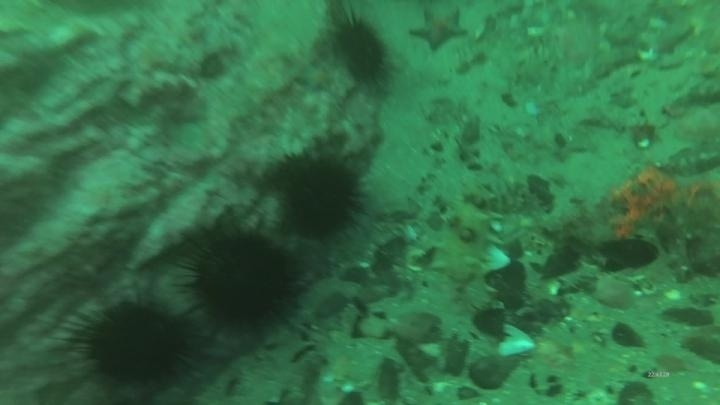echinus: (177, 222, 305, 340), (69, 296, 203, 392), (277, 152, 366, 243), (328, 13, 394, 88)
holothurian: (431, 194, 498, 316)
starfish: (407, 6, 470, 55), (295, 60, 338, 97)
